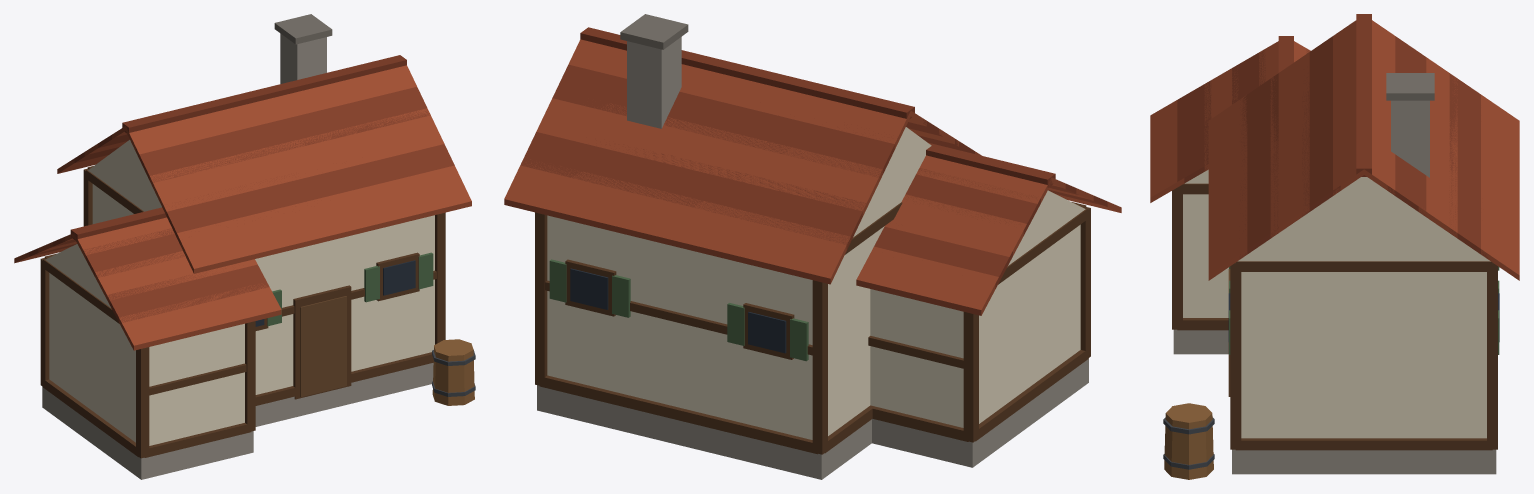
The model's file is house_l2_2.glb.
3 views of the same model, side by side, from view 1: azimuth 30°, elevation 25°; view 2: azimuth 150°, elevation 25°; view 3: azimuth 270°, elevation 25° (orthographic). The views are drawn at different scales.
Parts seen in each view (by area): view 1: house_l2_2; view 2: house_l2_2; view 3: house_l2_2.
Part boxes in pixels (x1,y1,x2,y2): house_l2_2: [14, 14, 475, 479]; house_l2_2: [504, 14, 1121, 479]; house_l2_2: [1150, 14, 1519, 479].
Size of the model in its own units: 6.15 by 5.06 by 4.75.
